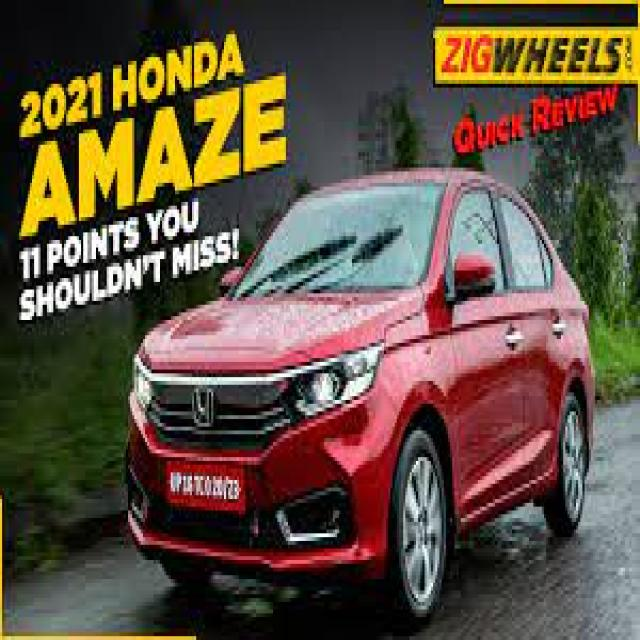Car: (127, 164, 601, 614)
